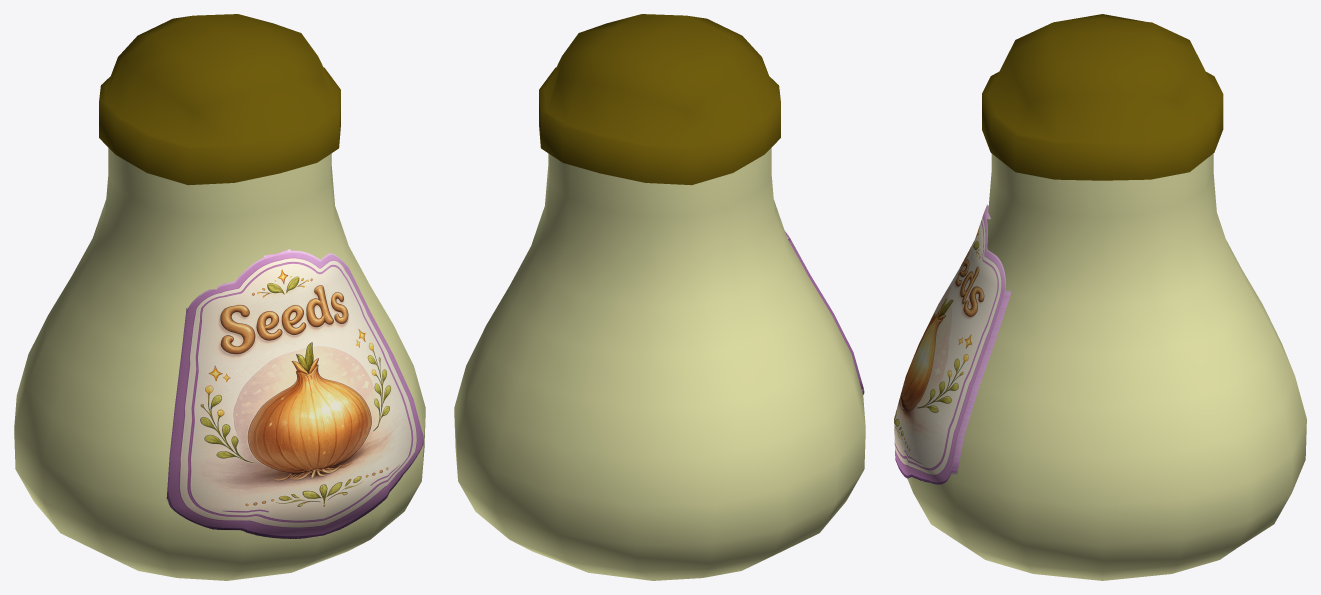
The model's file is seed_onion.glb.
The picture shows the model from 3 angles, left to right: view 1: azimuth 30°, elevation 25°; view 2: azimuth 150°, elevation 25°; view 3: azimuth 270°, elevation 25°; orthographic projection.
Visible parts, largest first — view 1: seed_onion; view 2: seed_onion; view 3: seed_onion.
Part boxes in pixels (x1,y1,x2,y2): seed_onion: [14, 14, 425, 580]; seed_onion: [454, 14, 865, 580]; seed_onion: [894, 14, 1306, 580].
Size of what is drawn, in the model's own units: 0.3161 by 0.4348 by 0.3193.
3 materials, 1 textured.
